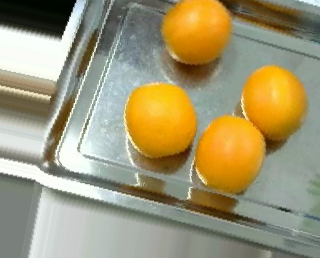Orange: (124, 81, 197, 160), (195, 113, 266, 194), (240, 66, 308, 143), (159, 1, 232, 66)
